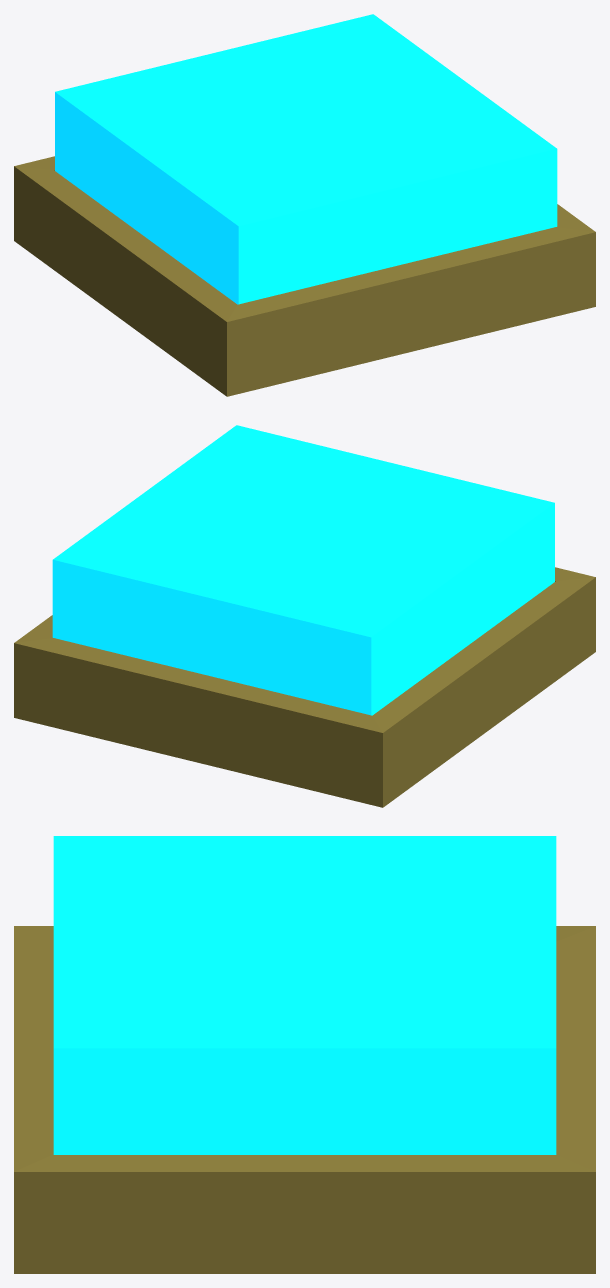
File: squareUnpressed.glb
3 renders of one model, top to bottom at view 1: azimuth 30°, elevation 25°; view 2: azimuth 150°, elevation 25°; view 3: azimuth 270°, elevation 25°, orthographic. The views are drawn at different scales.
Parts seen in each view (by area): view 1: Cube.002; view 2: Cube.002; view 3: Cube.002.
Part boxes in pixels (x1,y1,x2,y2): Cube.002: [14, 14, 595, 396]; Cube.002: [14, 425, 595, 807]; Cube.002: [14, 836, 595, 1273].
Size of the model in its own units: 1 by 0.402 by 1.
